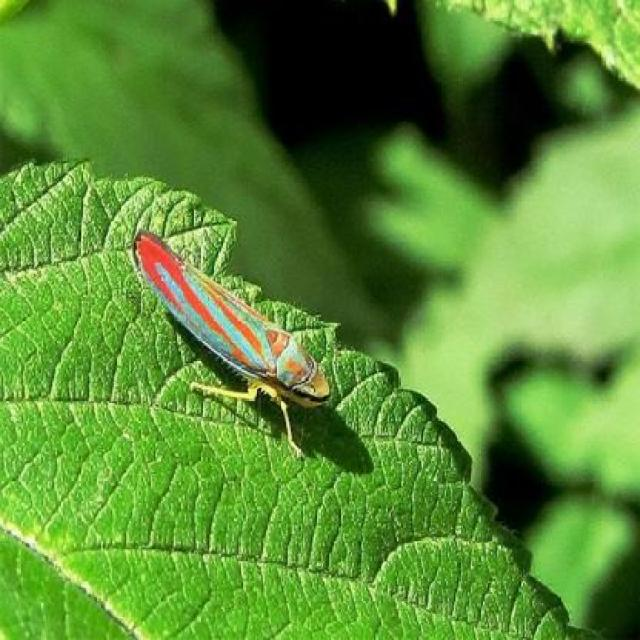green-leafhopper: (132, 227, 331, 439)
